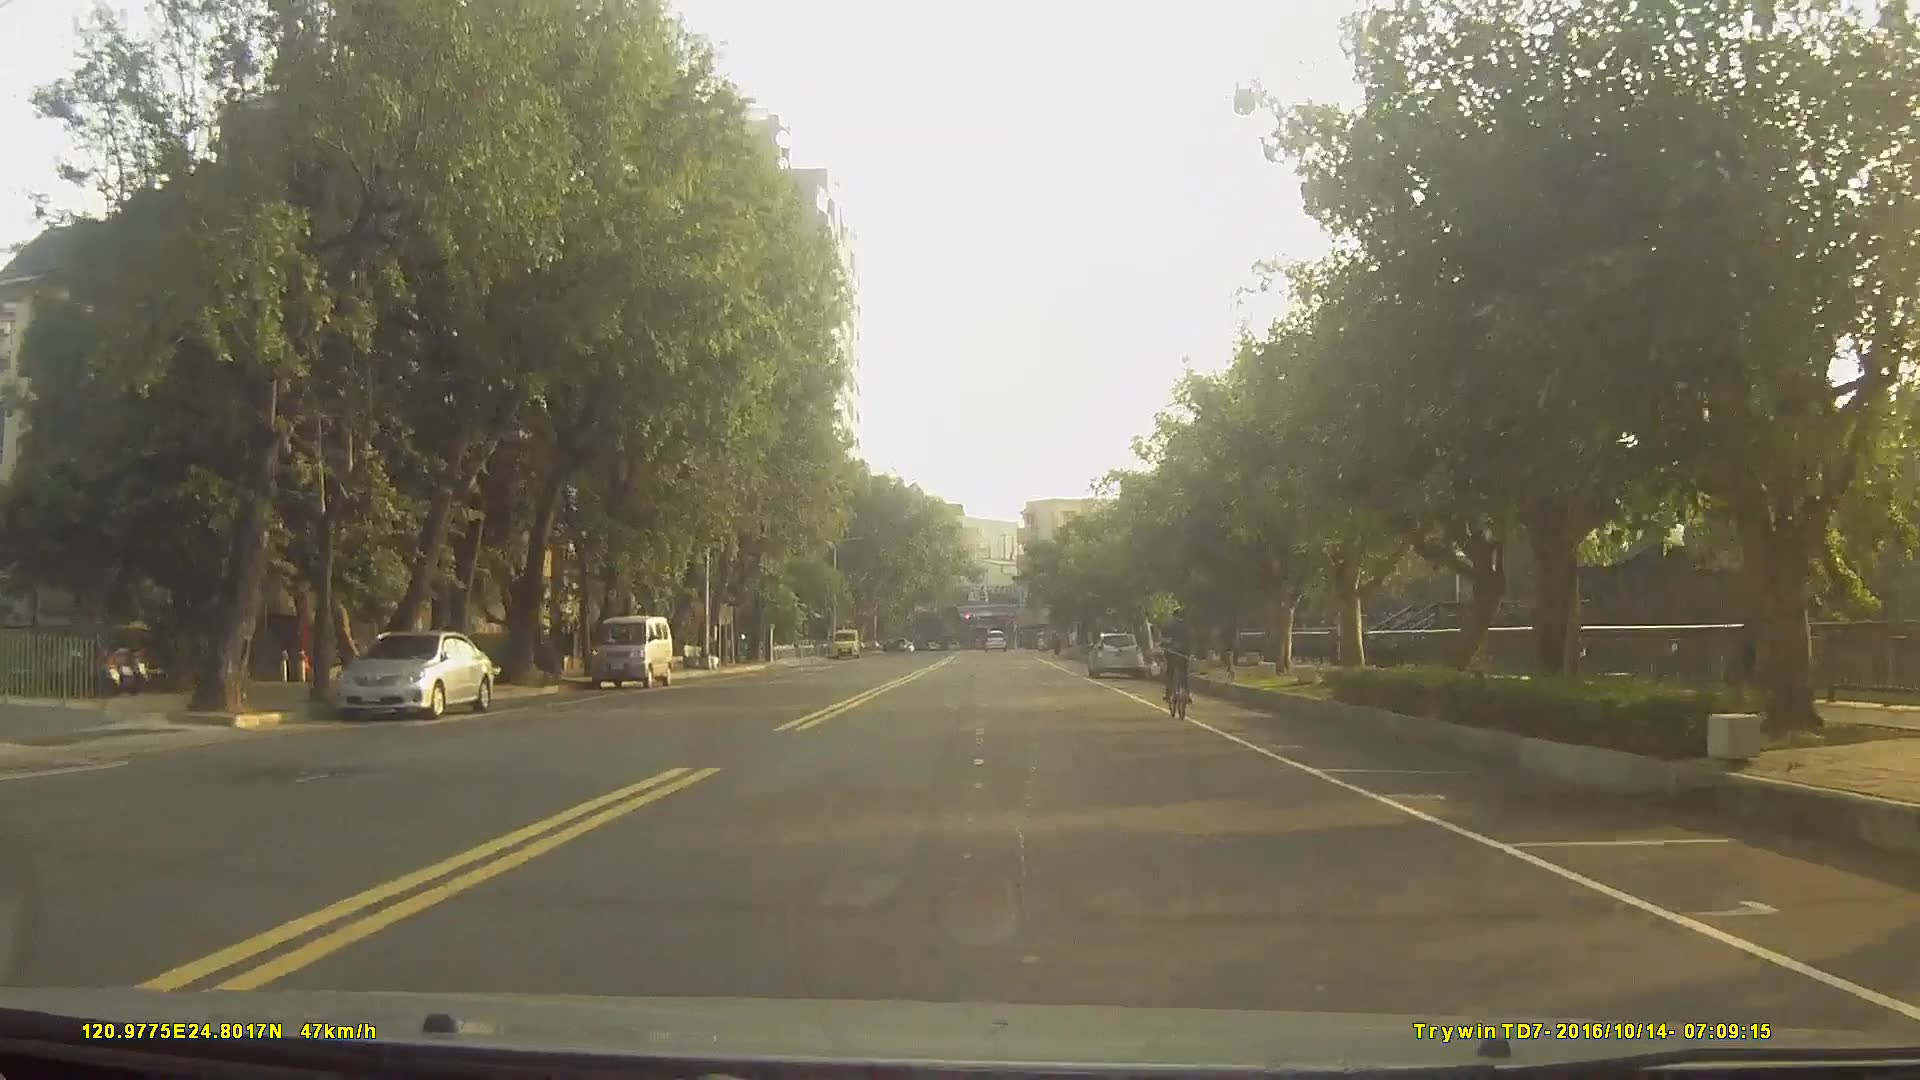rider: (1160, 602, 1198, 720)
vehicle: (329, 624, 494, 719), (587, 611, 673, 686), (1086, 629, 1144, 678), (980, 625, 1007, 653)
